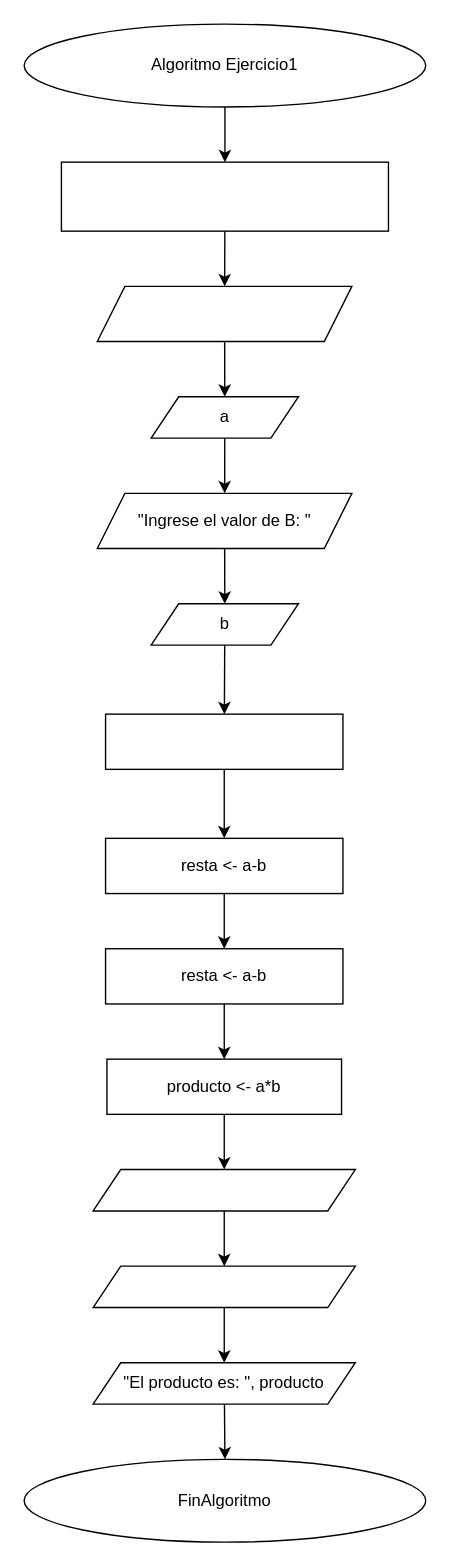
Image size: 450x1566. Some labels were removed from this diagram. Here are the shapes that lost their labels. From the top down, the box of each, then its label:
(60, 161, 388, 231): Definir a, b, suma, resta, producto como Entero
(96, 285, 352, 342): "Ingrese el valor de A: "
(104, 713, 343, 769): suma <- a+b
(92, 1168, 355, 1211): "La suma es: ", suma
(92, 1265, 355, 1308): "La resta es: ", resta
